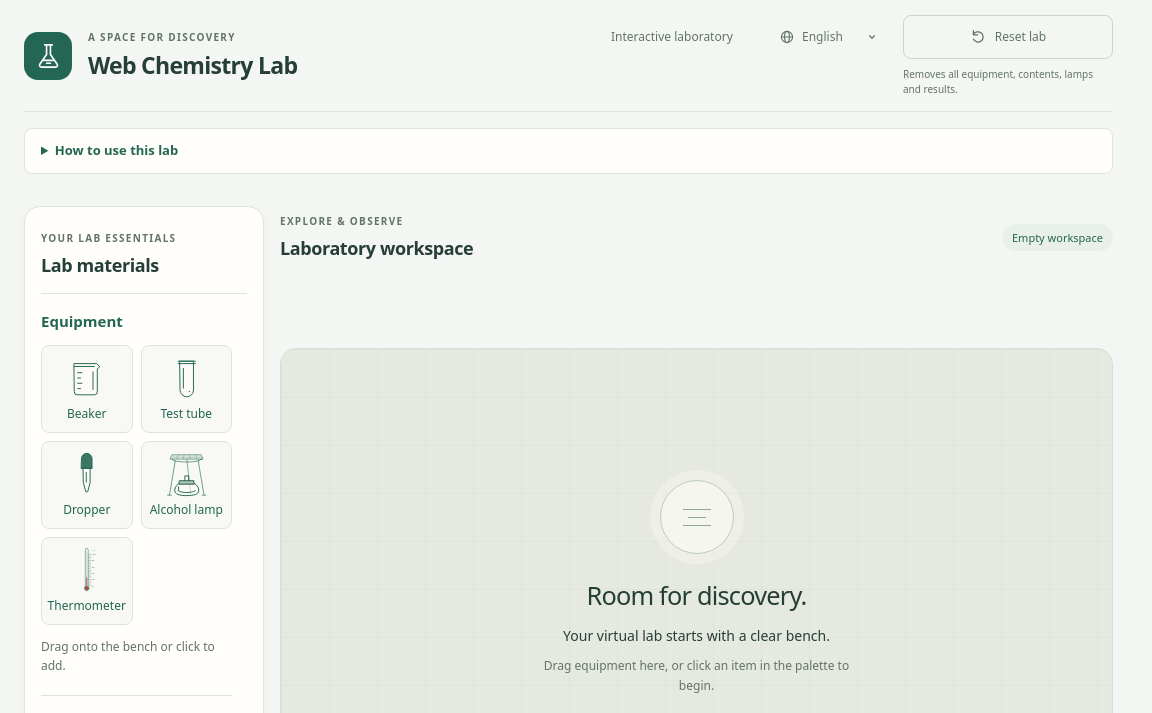
Test: M7 teaching workflow › keeps all catalog names/formulas and distinguishes solution and solid samples
Click the button with aria-label "Add Beaker": {"x": 87, "y": 388} [41, 344, 132, 432]
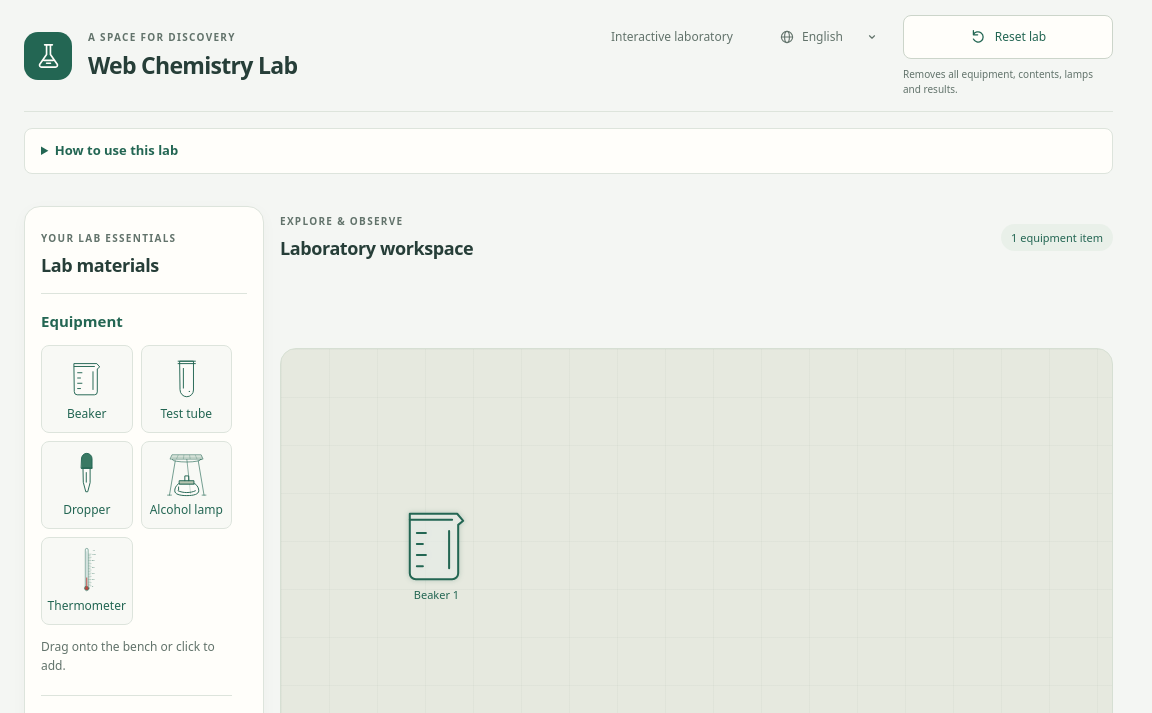
Click the heading "How to use this lab": {"x": 116, "y": 150} [55, 141, 178, 159]
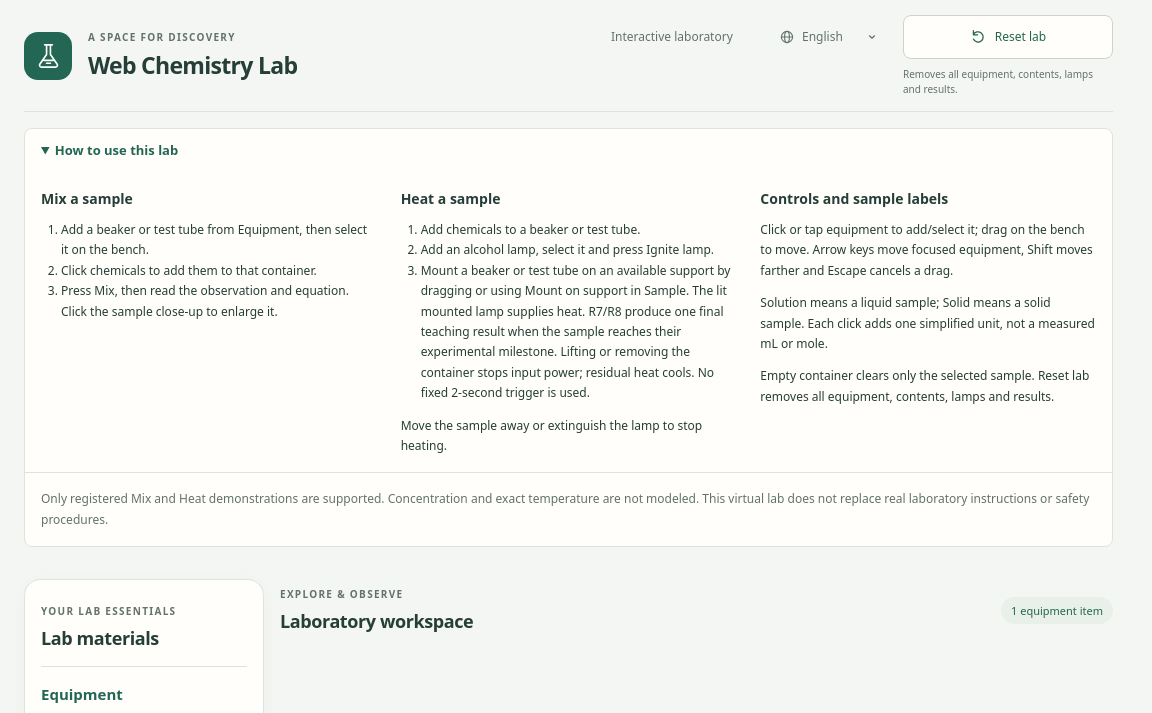
Now the element "Controls and sample labels" shows "Each click adds one simplified unit, not a measured mL or mole.", box [760, 294, 1095, 352]
